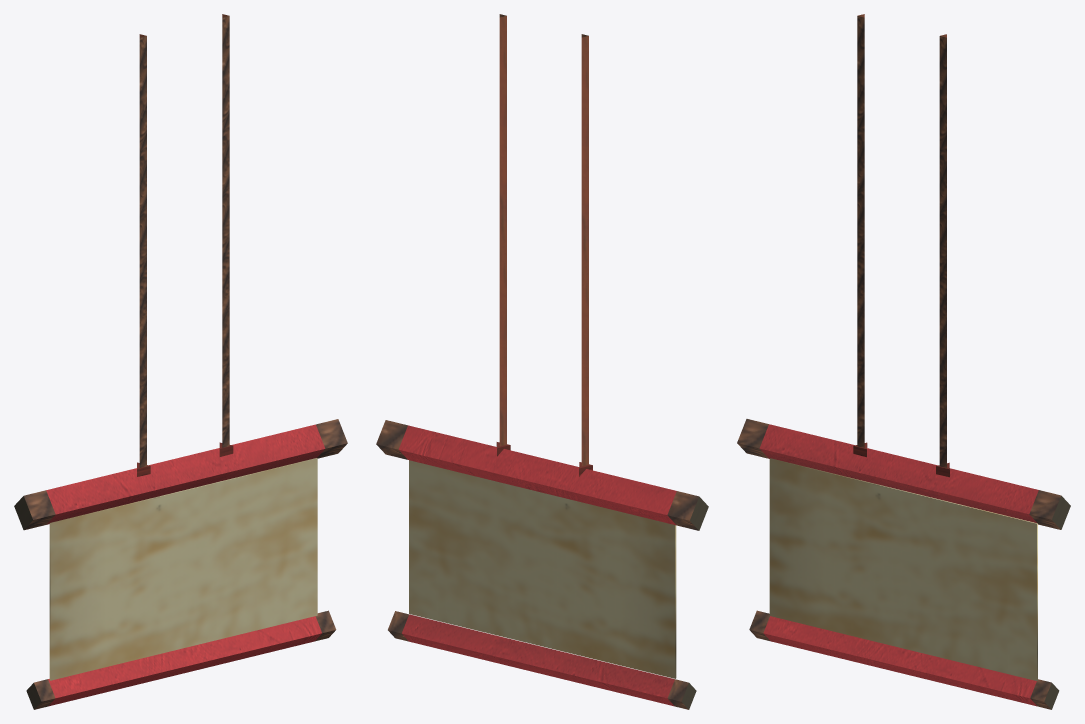
Rendered from Poster01_Art.fbx.
The picture shows the model from 3 angles, left to right: view 1: azimuth 30°, elevation 25°; view 2: azimuth 150°, elevation 25°; view 3: azimuth 330°, elevation 25°; orthographic projection.
Visible parts, largest first — view 1: Poster01_Art; view 2: Poster01_Art; view 3: Poster01_Art.
Part boxes in pixels (x1,y1,x2,y2): Poster01_Art: (14,14,347,709); Poster01_Art: (376,14,708,709); Poster01_Art: (737,14,1070,709).
Size of the model in its own units: 2.66 by 5.25 by 0.2808.
